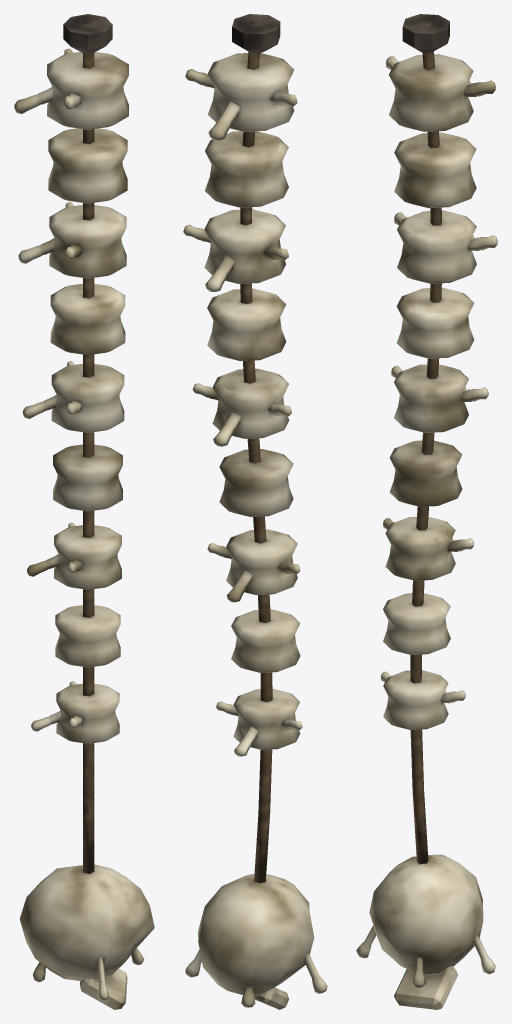
Rendered from Ossuary_Hang.fbx.
The picture shows the model from 3 angles, left to right: view 1: azimuth 90°, elevation 25°; view 2: azimuth 150°, elevation 25°; view 3: azimuth 330°, elevation 25°; orthographic projection. The views are drawn at different scales.
Visible parts, largest first — view 1: Ossuary_Hang; view 2: Ossuary_Hang; view 3: Ossuary_Hang.
Part boxes in pixels (x1,y1,x2,y2): Ossuary_Hang: (14, 14, 154, 1009); Ossuary_Hang: (183, 14, 327, 1009); Ossuary_Hang: (356, 14, 497, 1009).
Size of the model in its own units: 0.3494 by 2.64 by 0.343.
